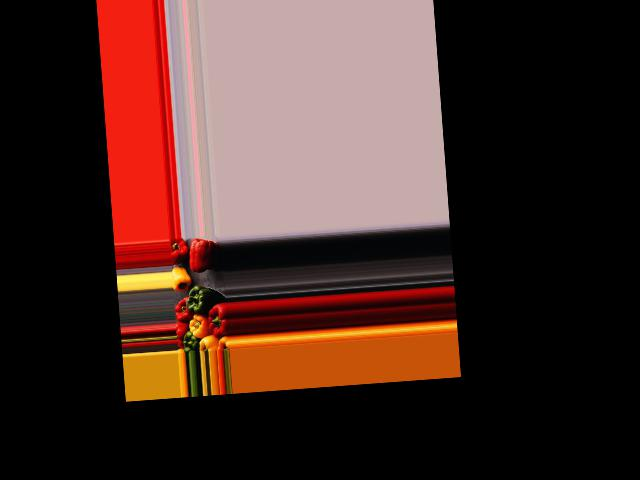bell_pepper: (171, 236, 188, 265)
